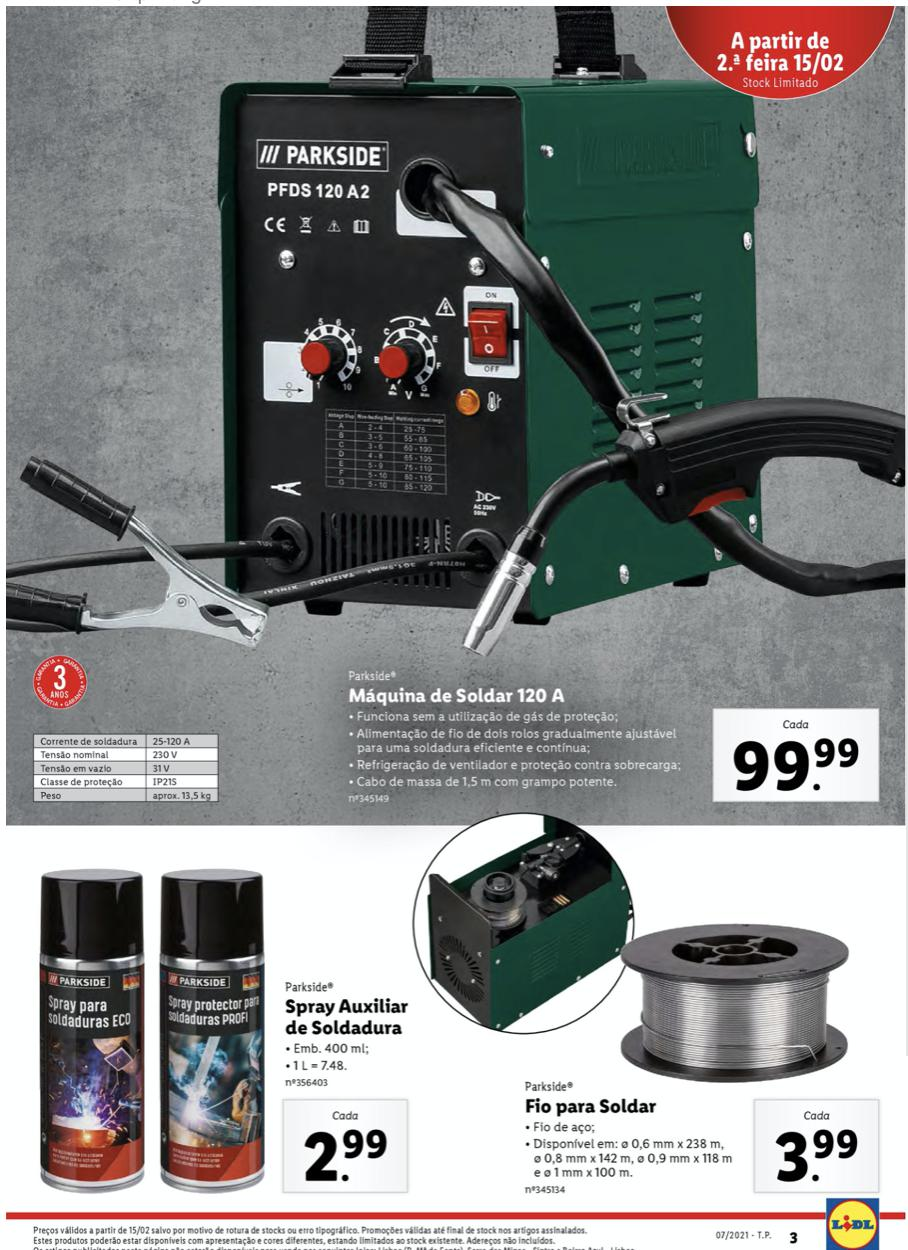name: (343, 683, 572, 712), (283, 995, 411, 1041), (517, 1095, 660, 1120)
price: (726, 735, 862, 793), (298, 1123, 395, 1195), (768, 1123, 860, 1187)
product: (22, 47, 895, 809), (422, 823, 898, 1207), (25, 847, 412, 1201)
